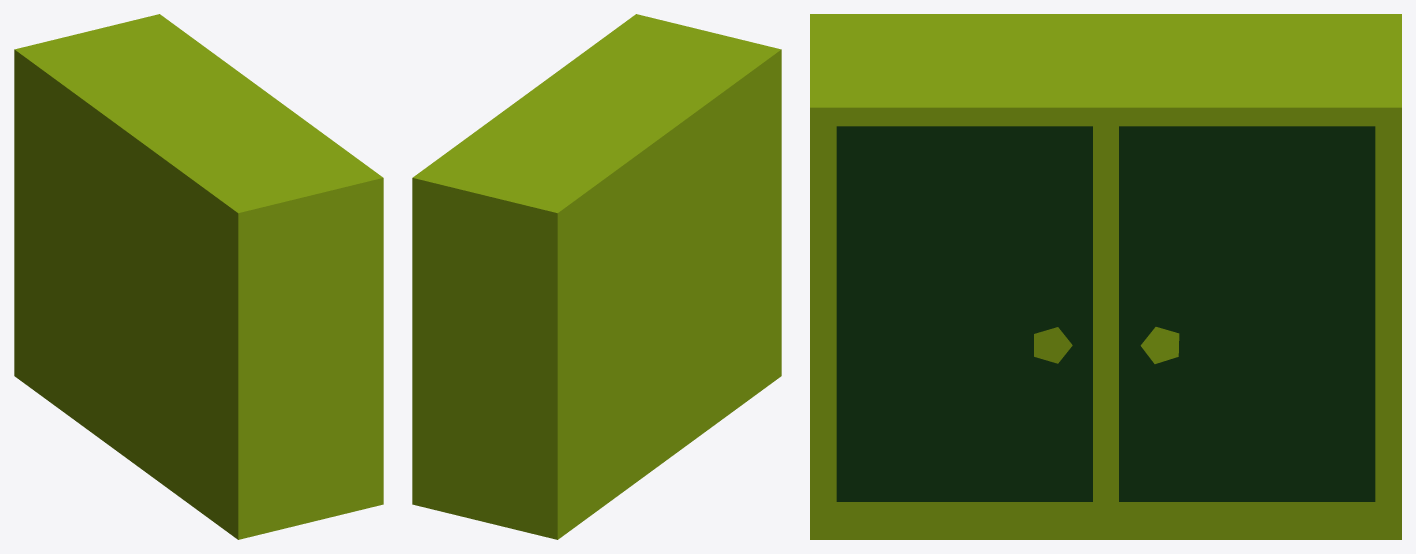
The model's file is wardrobe.obj.
3 views of the same model, side by side, from view 1: azimuth 30°, elevation 25°; view 2: azimuth 150°, elevation 25°; view 3: azimuth 270°, elevation 25° (orthographic). The views are drawn at different scales.
Parts seen in each view (by area): view 1: Cube; view 2: Cube; view 3: Cube.
Boxes of the visible parts, left/top/right/bottom form: Cube: left=14, top=14, right=383, bottom=539; Cube: left=412, top=14, right=781, bottom=539; Cube: left=810, top=14, right=1401, bottom=539.
Bounding box in the file's own units: 0.42 × 0.8548 × 1.06.
